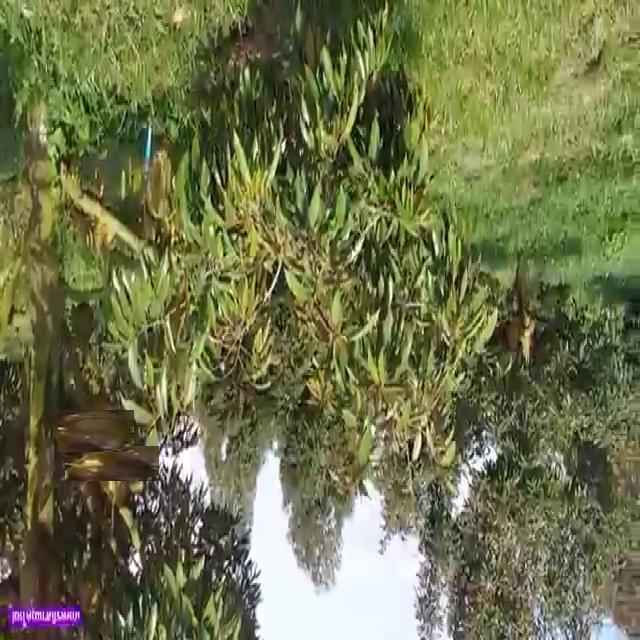durian: (80, 431, 145, 496), (67, 401, 126, 460)
